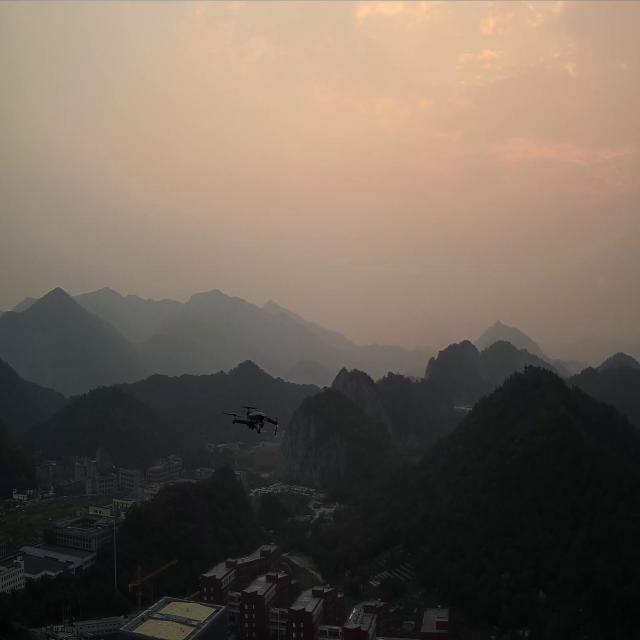UAV: (220, 405, 279, 436)
